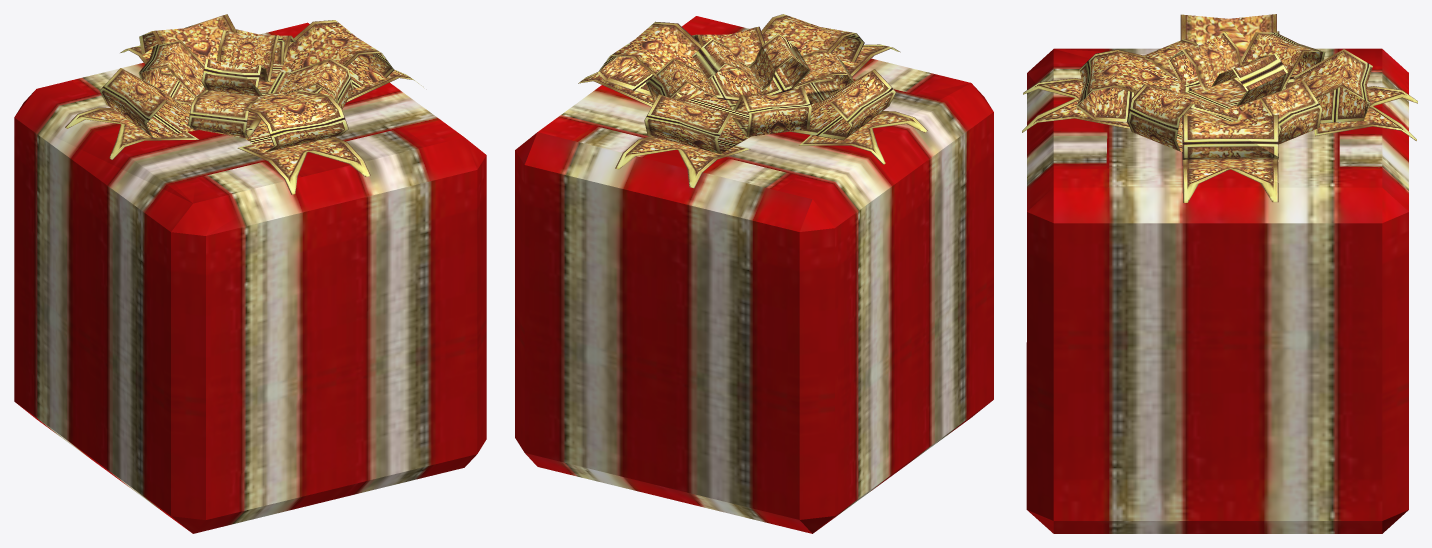
3 renders of one model, left to right at view 1: azimuth 30°, elevation 25°; view 2: azimuth 150°, elevation 25°; view 3: azimuth 270°, elevation 25°, orthographic. The views are drawn at different scales.
Visible parts, largest first — view 1: Object05, Object03, Object01, Object25, Box01, Object02; view 2: Object04, Object03, Object01, Object25, Box01, Object02; view 3: Object02, Object01, Object25, Box01.
Part boxes in pixels (x1,y1,x2,y2): Object05: [206, 170, 477, 519]; Object03: [14, 117, 205, 519]; Object01: [14, 22, 486, 235]; Object25: [65, 14, 423, 194]; Box01: [16, 403, 476, 533]; Object02: [477, 155, 486, 453]; Object04: [524, 165, 799, 519]; Object03: [799, 112, 993, 519]; Object01: [515, 16, 993, 231]; Object25: [578, 14, 927, 188]; Box01: [525, 401, 991, 533]; Object02: [515, 150, 524, 452]; Object02: [1026, 212, 1408, 520]; Object01: [1027, 48, 1408, 223]; Object25: [1022, 14, 1417, 202]; Box01: [1027, 510, 1408, 533].
Size of the model in its own units: 40.21 by 47.79 by 41.43.
Materials: 3 (3 with a texture image).
